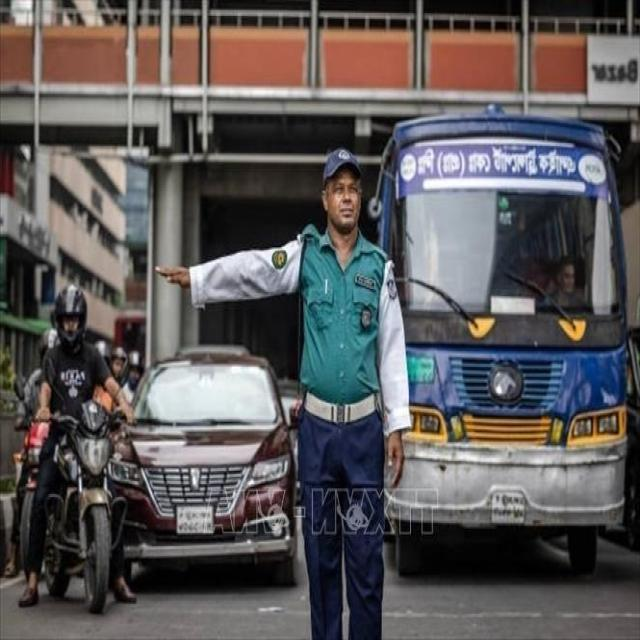Bus: (367, 110, 633, 578)
Car: (113, 349, 300, 593)
Motorbike: (36, 360, 139, 612)
traffic-police: (248, 128, 419, 640)
